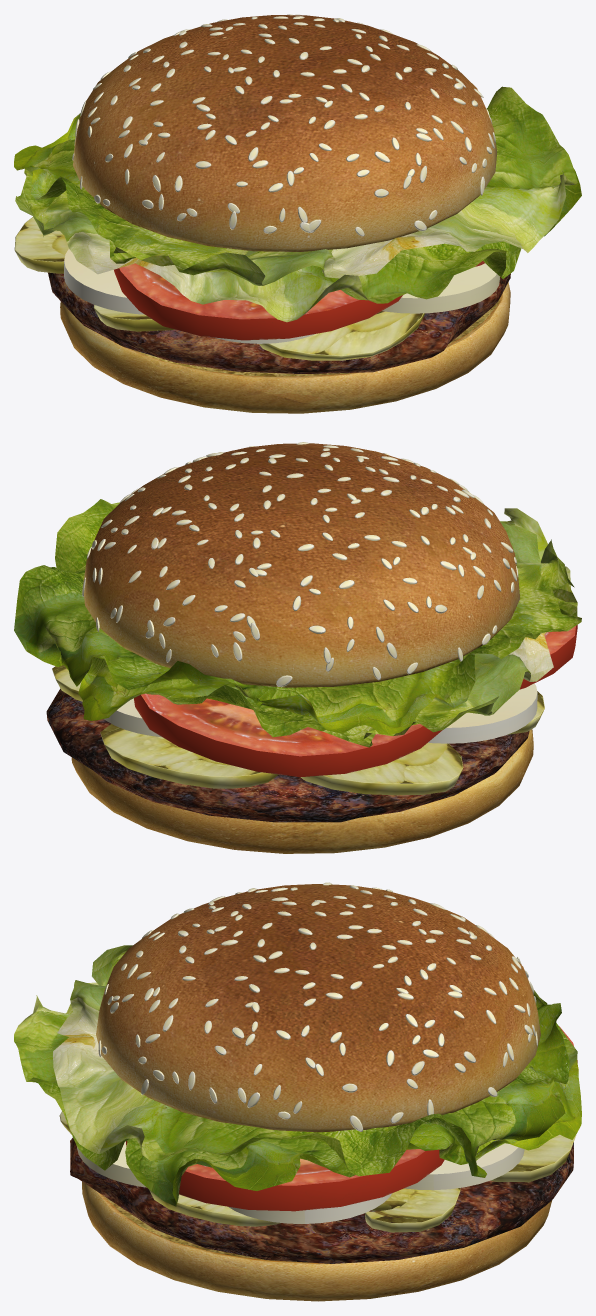
3 renders of one model, top to bottom at view 1: azimuth 30°, elevation 25°; view 2: azimuth 150°, elevation 25°; view 3: azimuth 270°, elevation 25°, orthographic. The views are drawn at different scales.
Parts seen in each view (by area): view 1: Pao, Alface, Hamburguer, Sementes, Tomate, Pikcles, Cebola; view 2: Pao, Alface, Hamburguer, Tomate, Pikcles, Sementes, Cebola; view 3: Pao, Alface, Hamburguer, Sementes, Tomate, Pikcles, Cebola.
Boxes of the visible parts, x1,y1,x2,y2 form: Pao: (60,15,510,413); Alface: (14,86,581,322); Hamburguer: (48,272,510,373); Sementes: (72,14,495,236); Tomate: (114,261,484,340); Pikcles: (14,217,424,360); Cebola: (64,249,499,343); Pao: (71,443,533,853); Alface: (14,499,581,747); Hamburguer: (46,688,529,822); Tomate: (134,625,577,777); Pikcles: (52,665,544,795); Sementes: (82,442,518,687); Cebola: (104,683,537,743); Pao: (82,884,552,1301); Alface: (14,945,581,1206); Hamburguer: (70,1138,573,1263); Sementes: (98,882,537,1131); Tomate: (126,1026,577,1211); Pikcles: (59,1111,576,1232); Cebola: (77,1141,524,1223).
Size of the model in its own units: 13.89 by 8.07 by 14.2.
Materials: 7 (7 with a texture image).
